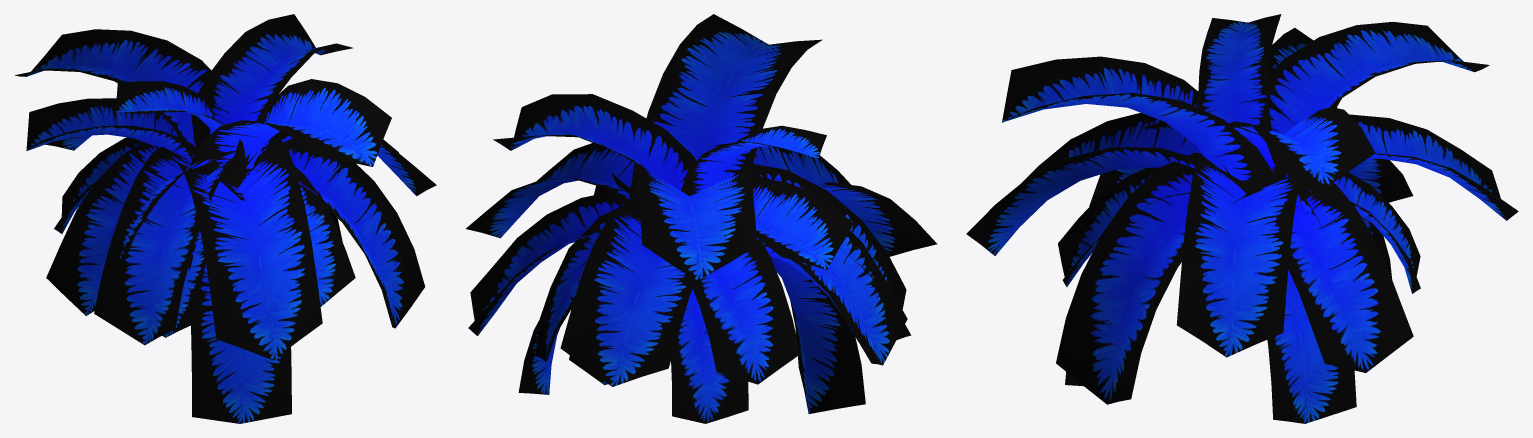
The model's file is Homeworld_Exterior_Common_Plant_Tree_16_Leaf_Lod0.fbx.
The picture shows the model from 3 angles, left to right: view 1: azimuth 30°, elevation 25°; view 2: azimuth 150°, elevation 25°; view 3: azimuth 270°, elevation 25°; orthographic projection. The views are drawn at different scales.
Parts seen in each view (by area): view 1: Homeworld_Exterior_Common_Plant_Tree_16_Leaf_Lod0; view 2: Homeworld_Exterior_Common_Plant_Tree_16_Leaf_Lod0; view 3: Homeworld_Exterior_Common_Plant_Tree_16_Leaf_Lod0.
Boxes of the visible parts, x1,y1,x2,y2 form: Homeworld_Exterior_Common_Plant_Tree_16_Leaf_Lod0: (15,14,436,423); Homeworld_Exterior_Common_Plant_Tree_16_Leaf_Lod0: (466,14,937,423); Homeworld_Exterior_Common_Plant_Tree_16_Leaf_Lod0: (966,14,1518,423).
Bounding box in the file's own units: 3.87 × 3.21 × 4.51.
1 material, 1 textured.
